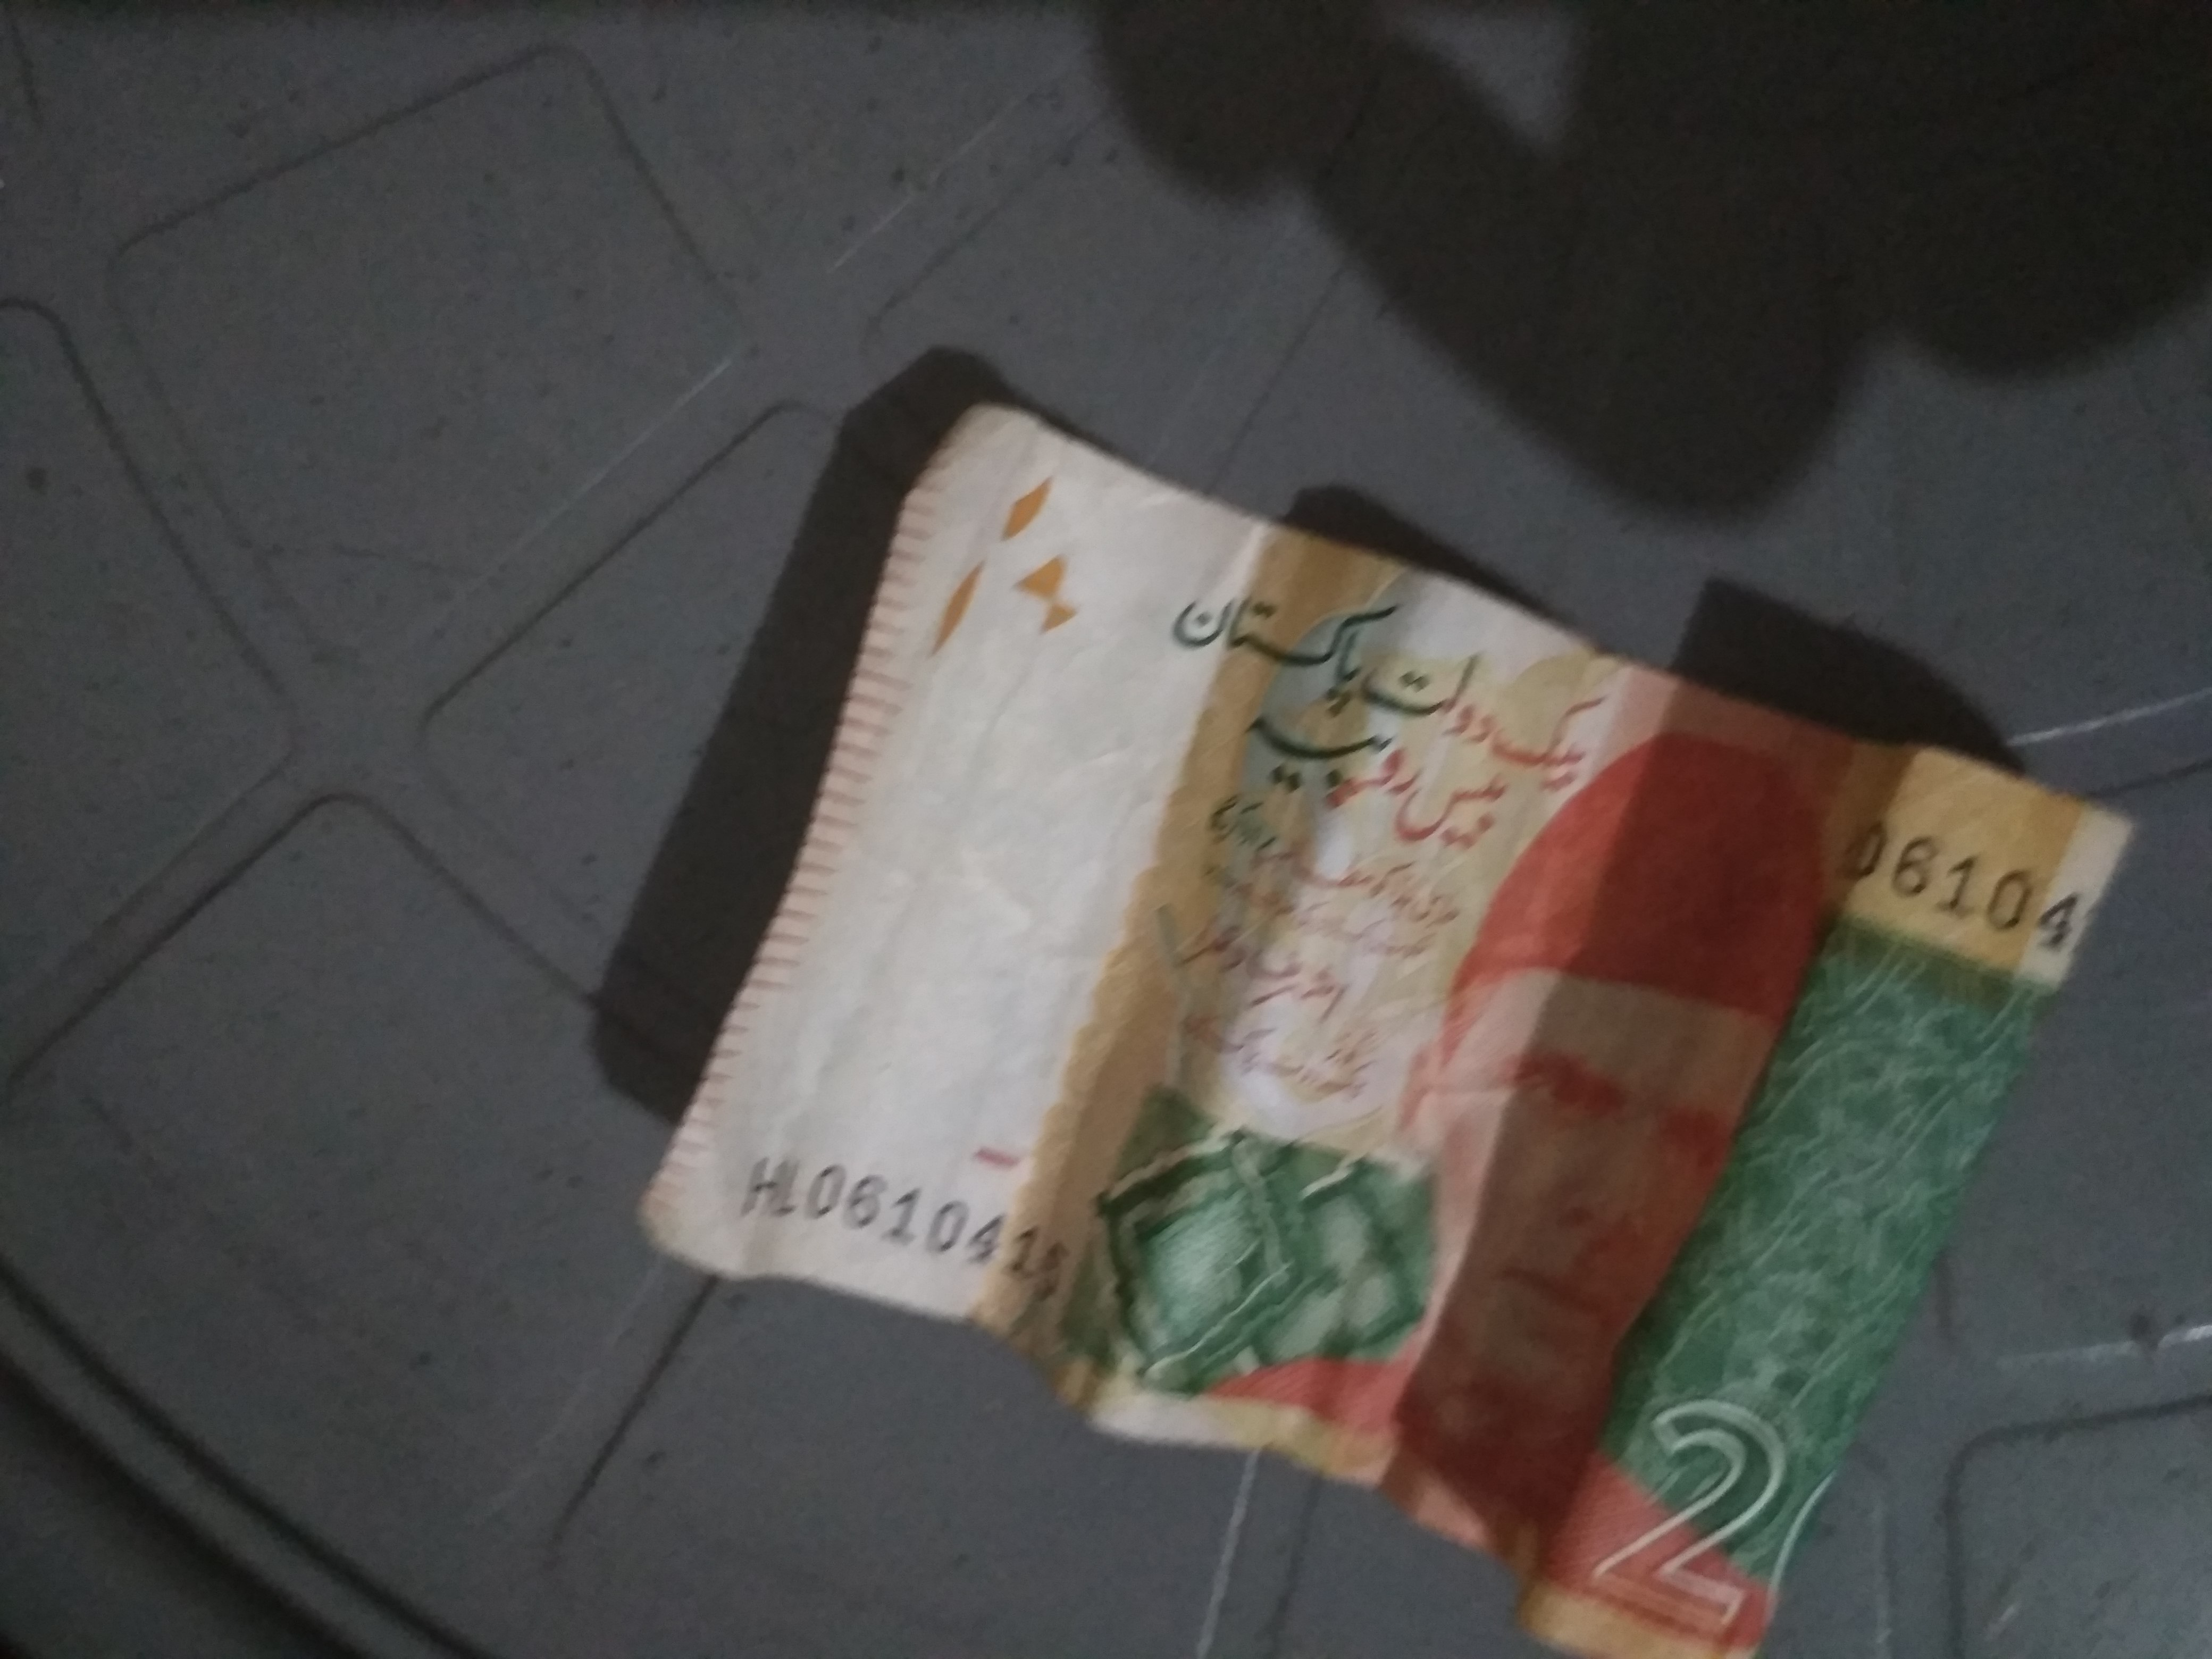20 rupee: (590, 317, 2116, 1659)
